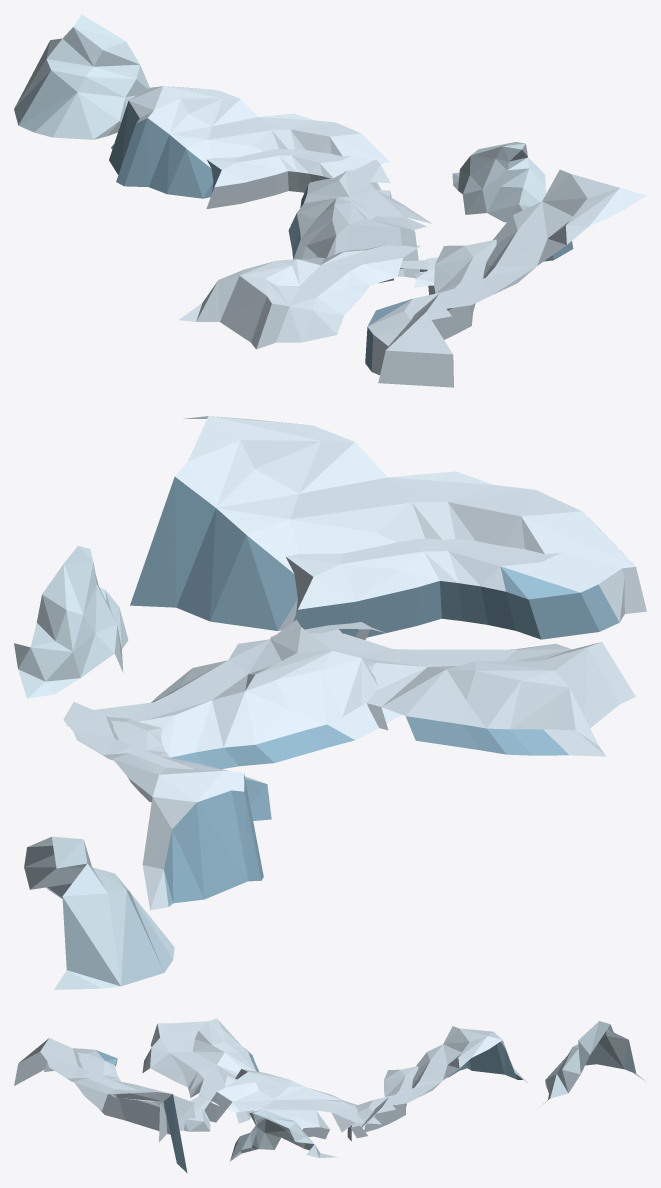
The model's file is Background Glacier 1.fbx.
The picture shows the model from 3 angles, top to bottom: view 1: azimuth 30°, elevation 25°; view 2: azimuth 150°, elevation 25°; view 3: azimuth 270°, elevation 25°; orthographic projection. The views are drawn at different scales.
Parts seen in each view (by area): view 1: Background Glaciers; view 2: Background Glaciers; view 3: Background Glaciers.
Boxes of the visible parts, x1=… form: Background Glaciers: x1=14, y1=14, x2=646, y2=387; Background Glaciers: x1=14, y1=416, x2=646, y2=989; Background Glaciers: x1=14, y1=1018, x2=644, y2=1172.
Size of the model in its own units: 98866 by 24383 by 181120.
